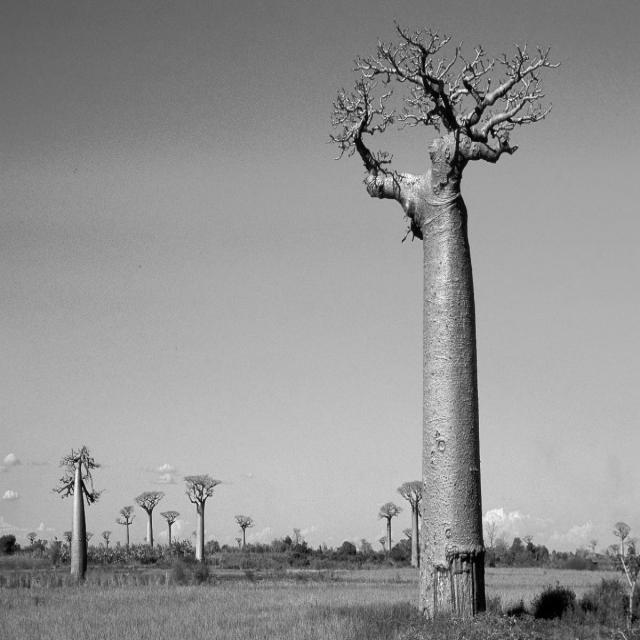baobab: (322, 11, 563, 624), (62, 444, 105, 592), (180, 466, 222, 568), (399, 472, 422, 572), (138, 487, 158, 550), (378, 496, 397, 556), (230, 509, 256, 550), (612, 512, 632, 558), (160, 505, 182, 546), (118, 501, 135, 553), (588, 531, 600, 554)
